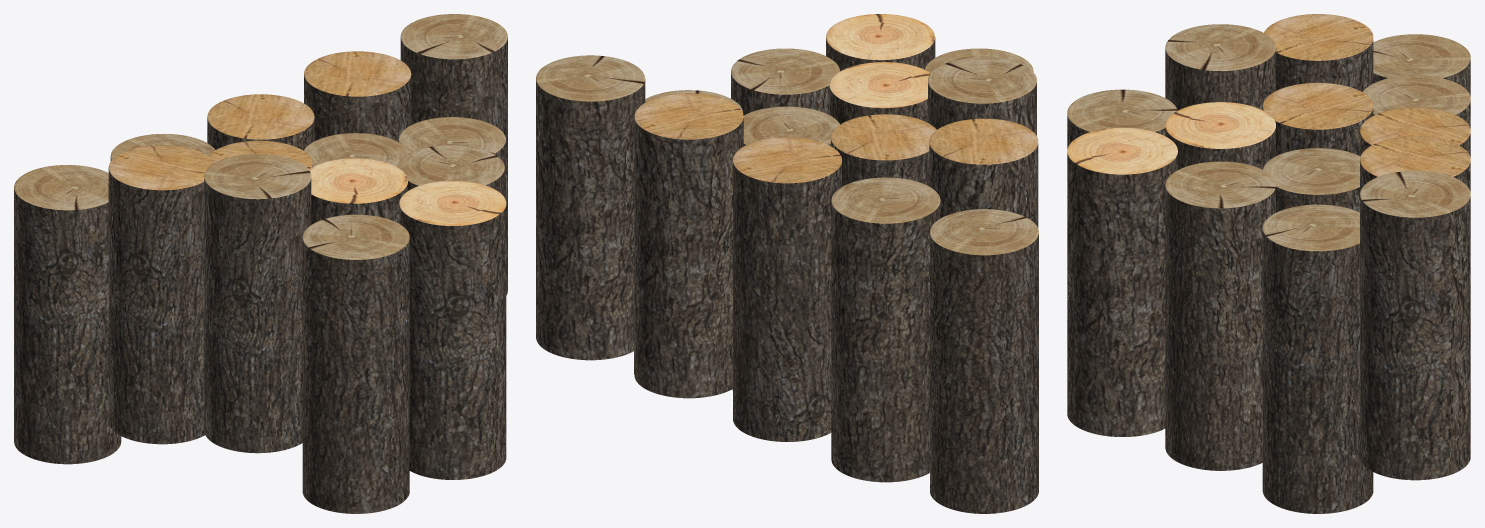
File: 12304_Wooden_Log_Stack_v2_l3.obj
The picture shows the model from 3 angles, left to right: view 1: azimuth 30°, elevation 25°; view 2: azimuth 150°, elevation 25°; view 3: azimuth 270°, elevation 25°; orthographic projection. The views are drawn at different scales.
Parts seen in each view (by area): view 1: Wooden_Log__Stack_2, Wooden_Log__Stack_1; view 2: Wooden_Log__Stack_2, Wooden_Log__Stack_1; view 3: Wooden_Log__Stack_1, Wooden_Log__Stack_2.
Part boxes in pixels (x1,y1,x2,y2): Wooden_Log__Stack_2: (14,14,507,513); Wooden_Log__Stack_1: (108,117,505,453); Wooden_Log__Stack_2: (536,14,1038,513); Wooden_Log__Stack_1: (634,48,1038,390); Wooden_Log__Stack_1: (1165,14,1373,513); Wooden_Log__Stack_2: (1067,34,1470,480).
Size of the model in its own units: 33.04 by 20.5 by 23.31.
1 material, 1 textured.
